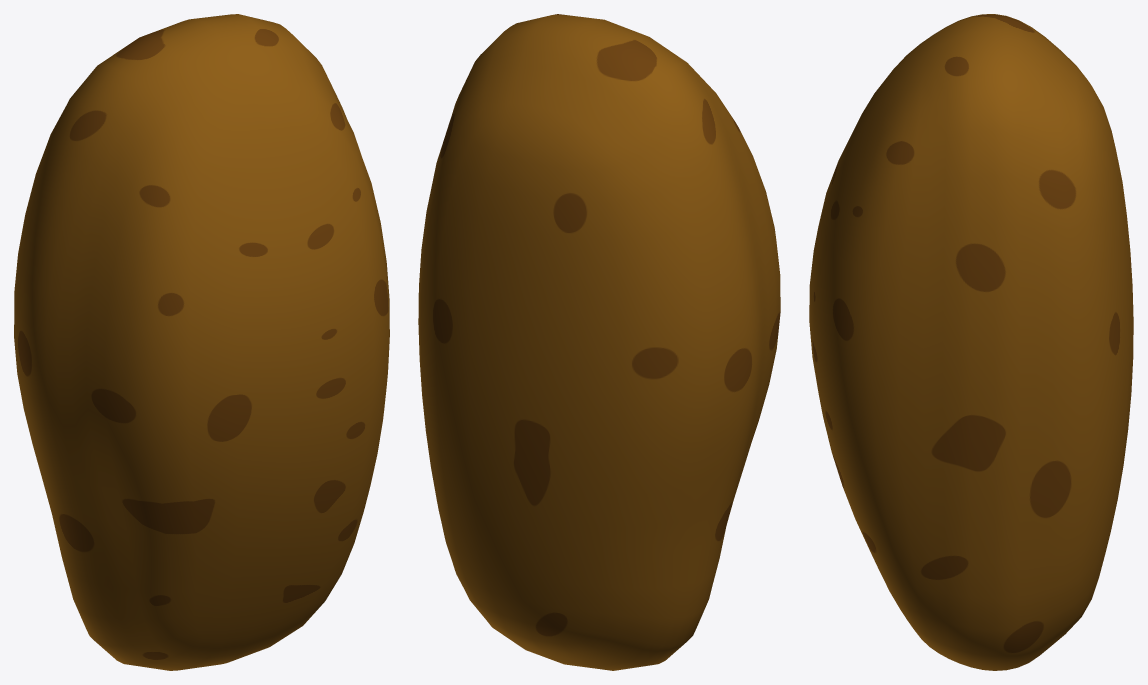
File: Potato Textured.fbx
3 renders of one model, left to right at view 1: azimuth 30°, elevation 25°; view 2: azimuth 150°, elevation 25°; view 3: azimuth 270°, elevation 25°, orthographic. The views are drawn at different scales.
Parts seen in each view (by area): view 1: Cube; view 2: Cube; view 3: Cube.
Part boxes in pixels (x1,y1,x2,y2): Cube: [14, 14, 389, 670]; Cube: [418, 14, 780, 670]; Cube: [809, 14, 1133, 670].
Bounding box in the file's own units: 208 × 402 × 189.
1 material, 1 textured.
